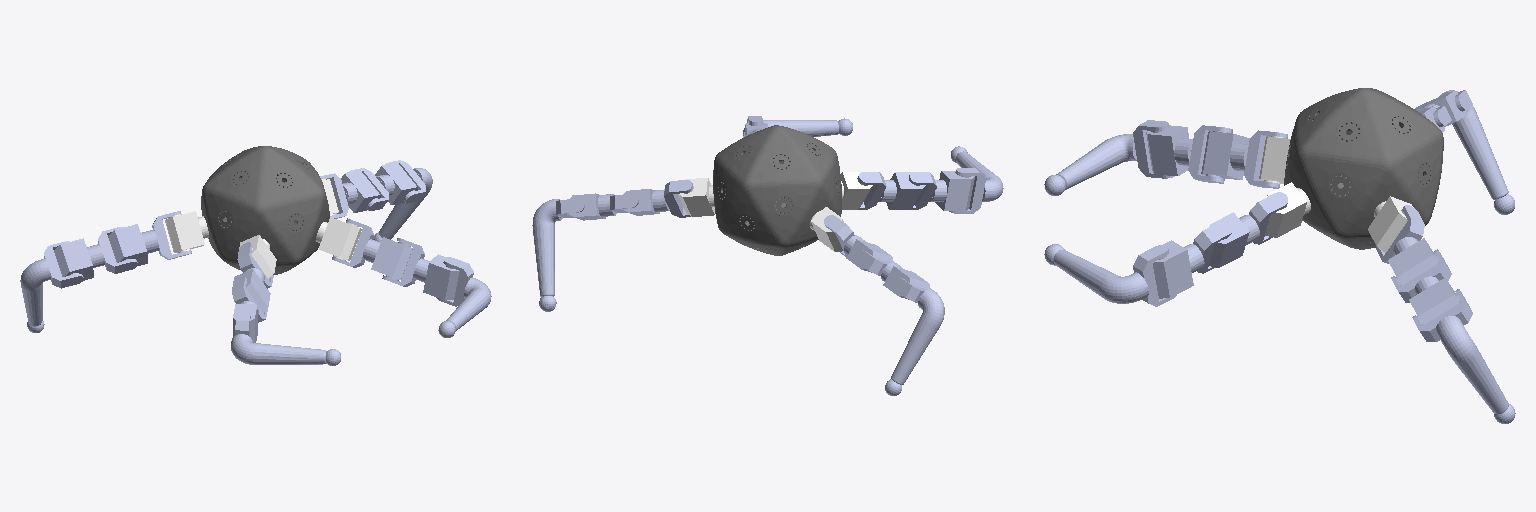
The robot description file, URDF, robot "mod_test":
<?xml version="1.0" encoding="utf-8"?>
<robot
  name="mod_test">
  <link
    name="base_link">
    <inertial>
      <origin
        xyz="-1.5226495220944E-06 1.5812928362389E-07 -5.05247252856584E-07"
        rpy="0 0 0" />
      <mass
        value="0.422806992949252" />
      <inertia
        ixx="0.00237499139253511"
        ixy="1.5717831530364E-08"
        ixz="1.49286265366169E-08"
        iyy="0.00237502154661776"
        iyz="-2.02154172619351E-08"
        izz="0.00237502595466009" />
    </inertial>
    <visual>
      <origin
        xyz="0 0 0"
        rpy="0 0 0" />
      <geometry>
        <mesh
          filename="package://meshes/base_link.STL" />
      </geometry>
      <material
        name="">
        <color
          rgba="0.498039215686275 0.498039215686275 0.498039215686275 1" />
      </material>
    </visual>
    <collision>
      <origin
        xyz="0 0 0"
        rpy="0 0 0" />
      <geometry>
        <mesh
          filename="package://meshes/base_link.STL" />
      </geometry>
    </collision>
  </link>
  <link
   name="100">
   <inertial>
      <origin
        xyz="0 0 0.028508"
        rpy="0 0 0" />
      <mass
        value="0.076173" />
      <inertia
        ixx="3.054E-05"
        ixy="0.000000"
        ixz="-0.000000"
        iyy="2.1077E-05"
        iyz="-0.000000"
        izz="2.1165E-05" />
    </inertial>
    <visual>
      <origin
        xyz="0 0 0"
        rpy="0 0 0" />
      <geometry>
        <mesh
          filename="package://meshes/1.STL" />
      </geometry>
      <material
        name="">
        <color
          rgba="1 1 1 1" />
      </material>
    </visual>
    <collision>
      <origin
        xyz="0 0 0"
        rpy="0 0 0" />
      <geometry>
        <mesh
          filename="package://meshes/1.STL" />
      </geometry>
    </collision>
  </link>
  <joint
    name="body_100"
    type="fixed">
    <origin
        xyz="0.051620 -0.071049 -0.016769"
        rpy="-1.787804 -0.513383 -2.405411" />
    <parent
      link="base_link" />
    <child
      link="100" />
    <axis
      xyz="0 0 0" />
  </joint>
  <link
    name="101">
    <inertial>
      <origin
        xyz="0.060018 -1.4108E-06 1.4108E-06"
        rpy="0 0 0" />
    <mass
        value="0.10689" />
      <inertia
        ixx="3.2684e-05"
        ixy="-2.5662e-09"
        ixz="2.5662e-09"
        iyy="9.3595e-05"
        iyz="-2.1275e-13"
        izz="7.512e-05" />
    </inertial>
    <visual>
      <origin
        xyz="0 0 0"
        rpy="0 0 0" />
      <geometry>
        <mesh
          filename="package://meshes/module0.STL" />
      </geometry>
      <material
        name="">
        <color
          rgba="0.79216 0.81961 0.93333 1" />
      </material>
    </visual>
    <collision>
      <origin
        xyz="0 0 0"
        rpy="0 0 0" />
      <geometry>
        <mesh
          filename="package://meshes/module0.STL" />
      </geometry>
    </collision>
  </link>
  <joint
    name="100_101"
    type="revolute">
    <origin
      xyz="0 0 0.04"
      rpy="-1.558 -1.5708 -0.012835" />
    <parent
      link="100" />
    <child
      link="101" />
    <axis
      xyz="0 0 1" />
    <limit
      lower="-6.28"
      upper="6.28"
      effort="10"
      velocity="100" />
  </joint>
  <link
    name="102">
    <inertial>
      <origin
        xyz="0.060018 -1.4108E-06 1.4108E-06"
        rpy="0 0 0" />
    <mass
        value="0.10689" />
      <inertia
        ixx="3.2684e-05"
        ixy="-2.5662e-09"
        ixz="2.5662e-09"
        iyy="9.1229e-05"
        iyz="4.0975e-06"
        izz="7.7485e-05" />
    </inertial>
    <visual>
      <origin
        xyz="0 0 0"
        rpy="0 0 0" />
      <geometry>
        <mesh
          filename="package://meshes/module7.STL" />
      </geometry>
      <material
        name="">
        <color
          rgba="0.79216 0.81961 0.93333 1" />
      </material>
    </visual>
    <collision>
      <origin
        xyz="0 0 0"
        rpy="0 0 0" />
      <geometry>
        <mesh
          filename="package://meshes/module7.STL" />
      </geometry>
    </collision>
  </link>
  <joint
    name="101_102"
    type="revolute">
    <origin
      xyz="0.0816 0 0"
      rpy="0.000000 0 0" />
    <parent
      link="101" />
    <child
      link="102" />
    <axis
      xyz="0 0 1" />
    <limit
      lower="-6.28"
      upper="6.28"
      effort="10"
      velocity="100" />
  </joint>
  <link
    name="103">
    <inertial>
      <origin
        xyz="0.051733 -0.042281 -1.3878E-17"
        rpy="0 0 0" />
    <mass
        value="0.12059" />
      <inertia
        ixx="0.00025425"
        ixy="4.8319E-05"
        ixz="0"
        iyy="5.0194E-05"
        iyz="-3.3141E-21"
        izz="0.00027482" />
    </inertial>
    <visual>
      <origin
        xyz="0 0 0"
        rpy="0 0 0" />
      <geometry>
        <mesh
          filename="package://meshes/leg.STL" />
      </geometry>
      <material
        name="">
        <color
          rgba="0.79216 0.81961 0.93333 1" />
      </material>
    </visual>
    <collision>
      <origin
        xyz="0 0 0"
        rpy="0 0 0" />
      <geometry>
        <mesh
          filename="package://meshes/leg.STL" />
      </geometry>
    </collision>
  </link>
  <joint
    name="102_103"
    type="revolute">
    <origin
      xyz="0.0816 0 0"
      rpy="3.665191 0 0" />
    <parent
      link="102" />
    <child
      link="103" />
    <axis
      xyz="0 0 1" />
    <limit
      lower="-6.28"
      upper="6.28"
      effort="10"
      velocity="100" />
  </joint>
  <link
   name="110">
   <inertial>
      <origin
        xyz="0 0 0.028508"
        rpy="0 0 0" />
      <mass
        value="0.076173" />
      <inertia
        ixx="3.054E-05"
        ixy="0.000000"
        ixz="-0.000000"
        iyy="2.1077E-05"
        iyz="-0.000000"
        izz="2.1165E-05" />
    </inertial>
    <visual>
      <origin
        xyz="0 0 0"
        rpy="0 0 0" />
      <geometry>
        <mesh
          filename="package://meshes/1.STL" />
      </geometry>
      <material
        name="">
        <color
          rgba="1 1 1 1" />
      </material>
    </visual>
    <collision>
      <origin
        xyz="0 0 0"
        rpy="0 0 0" />
      <geometry>
        <mesh
          filename="package://meshes/1.STL" />
      </geometry>
    </collision>
  </link>
  <joint
    name="body_110"
    type="fixed">
    <origin
        xyz="0.083523 0.027138 -0.016769"
        rpy="1.787804 0.513383 1.992819" />
    <parent
      link="base_link" />
    <child
      link="110" />
    <axis
      xyz="0 0 0" />
  </joint>
  <link
    name="111">
    <inertial>
      <origin
        xyz="0.060018 -1.4108E-06 1.4108E-06"
        rpy="0 0 0" />
    <mass
        value="0.10689" />
      <inertia
        ixx="3.2684e-05"
        ixy="-2.5662e-09"
        ixz="2.5662e-09"
        iyy="9.1229e-05"
        iyz="-4.0975e-06"
        izz="7.7485e-05" />
    </inertial>
    <visual>
      <origin
        xyz="0 0 0"
        rpy="0 0 0" />
      <geometry>
        <mesh
          filename="package://meshes/module11.STL" />
      </geometry>
      <material
        name="">
        <color
          rgba="0.79216 0.81961 0.93333 1" />
      </material>
    </visual>
    <collision>
      <origin
        xyz="0 0 0"
        rpy="0 0 0" />
      <geometry>
        <mesh
          filename="package://meshes/module11.STL" />
      </geometry>
    </collision>
  </link>
  <joint
    name="110_111"
    type="revolute">
    <origin
      xyz="0 0 0.04"
      rpy="-1.558 -1.5708 -0.012835" />
    <parent
      link="110" />
    <child
      link="111" />
    <axis
      xyz="0 0 1" />
    <limit
      lower="-6.28"
      upper="6.28"
      effort="10"
      velocity="100" />
  </joint>
  <link
    name="112">
    <inertial>
      <origin
        xyz="0.060018 -1.4108E-06 1.4108E-06"
        rpy="0 0 0" />
    <mass
        value="0.10689" />
      <inertia
        ixx="3.2684e-05"
        ixy="-2.5662e-09"
        ixz="2.5662e-09"
        iyy="9.3595e-05"
        iyz="-2.1275e-13"
        izz="7.512e-05" />
    </inertial>
    <visual>
      <origin
        xyz="0 0 0"
        rpy="0 0 0" />
      <geometry>
        <mesh
          filename="package://meshes/module6.STL" />
      </geometry>
      <material
        name="">
        <color
          rgba="0.79216 0.81961 0.93333 1" />
      </material>
    </visual>
    <collision>
      <origin
        xyz="0 0 0"
        rpy="0 0 0" />
      <geometry>
        <mesh
          filename="package://meshes/module6.STL" />
      </geometry>
    </collision>
  </link>
  <joint
    name="111_112"
    type="revolute">
    <origin
      xyz="0.0816 0 0"
      rpy="5.759587 0 0" />
    <parent
      link="111" />
    <child
      link="112" />
    <axis
      xyz="0 0 1" />
    <limit
      lower="-6.28"
      upper="6.28"
      effort="10"
      velocity="100" />
  </joint>
  <link
    name="113">
    <inertial>
      <origin
        xyz="0.051733 -0.042281 -1.3878E-17"
        rpy="0 0 0" />
    <mass
        value="0.12059" />
      <inertia
        ixx="0.00025425"
        ixy="4.8319E-05"
        ixz="0"
        iyy="5.0194E-05"
        iyz="-3.3141E-21"
        izz="0.00027482" />
    </inertial>
    <visual>
      <origin
        xyz="0 0 0"
        rpy="0 0 0" />
      <geometry>
        <mesh
          filename="package://meshes/leg.STL" />
      </geometry>
      <material
        name="">
        <color
          rgba="0.79216 0.81961 0.93333 1" />
      </material>
    </visual>
    <collision>
      <origin
        xyz="0 0 0"
        rpy="0 0 0" />
      <geometry>
        <mesh
          filename="package://meshes/leg.STL" />
      </geometry>
    </collision>
  </link>
  <joint
    name="112_113"
    type="revolute">
    <origin
      xyz="0.0816 0 0"
      rpy="3.141593 0 0" />
    <parent
      link="112" />
    <child
      link="113" />
    <axis
      xyz="0 0 1" />
    <limit
      lower="-6.28"
      upper="6.28"
      effort="10"
      velocity="100" />
  </joint>
  <link
   name="130">
   <inertial>
      <origin
        xyz="0 0 0.028508"
        rpy="0 0 0" />
      <mass
        value="0.076173" />
      <inertia
        ixx="3.054E-05"
        ixy="-0.000000"
        ixz="-0.000000"
        iyy="2.1077E-05"
        iyz="-0.000000"
        izz="2.1165E-05" />
    </inertial>
    <visual>
      <origin
        xyz="0 0 0"
        rpy="0 0 0" />
      <geometry>
        <mesh
          filename="package://meshes/1.STL" />
      </geometry>
      <material
        name="">
        <color
          rgba="1 1 1 1" />
      </material>
    </visual>
    <collision>
      <origin
        xyz="0 0 0"
        rpy="0 0 0" />
      <geometry>
        <mesh
          filename="package://meshes/1.STL" />
      </geometry>
    </collision>
  </link>
  <joint
    name="body_130"
    type="fixed">
    <origin
        xyz="-0.083523 0.027138 -0.016769"
        rpy="-1.787804 0.513383 1.148774" />
    <parent
      link="base_link" />
    <child
      link="130" />
    <axis
      xyz="0 0 0" />
  </joint>
  <link
    name="131">
    <inertial>
      <origin
        xyz="0.060018 -1.4108E-06 1.4108E-06"
        rpy="0 0 0" />
    <mass
        value="0.10689" />
      <inertia
        ixx="3.2684e-05"
        ixy="-2.5662e-09"
        ixz="2.5662e-09"
        iyy="9.1229e-05"
        iyz="4.0975e-06"
        izz="7.7485e-05" />
    </inertial>
    <visual>
      <origin
        xyz="0 0 0"
        rpy="0 0 0" />
      <geometry>
        <mesh
          filename="package://meshes/module1.STL" />
      </geometry>
      <material
        name="">
        <color
          rgba="0.79216 0.81961 0.93333 1" />
      </material>
    </visual>
    <collision>
      <origin
        xyz="0 0 0"
        rpy="0 0 0" />
      <geometry>
        <mesh
          filename="package://meshes/module1.STL" />
      </geometry>
    </collision>
  </link>
  <joint
    name="130_131"
    type="revolute">
    <origin
      xyz="0 0 0.04"
      rpy="-1.558 -1.5708 -0.012835" />
    <parent
      link="130" />
    <child
      link="131" />
    <axis
      xyz="0 0 1" />
    <limit
      lower="-6.28"
      upper="6.28"
      effort="10"
      velocity="100" />
  </joint>
  <link
    name="132">
    <inertial>
      <origin
        xyz="0.060018 -1.4108E-06 1.4108E-06"
        rpy="0 0 0" />
    <mass
        value="0.10689" />
      <inertia
        ixx="3.2684e-05"
        ixy="-2.5662e-09"
        ixz="2.5662e-09"
        iyy="9.3595e-05"
        iyz="-2.1275e-13"
        izz="7.512e-05" />
    </inertial>
    <visual>
      <origin
        xyz="0 0 0"
        rpy="0 0 0" />
      <geometry>
        <mesh
          filename="package://meshes/module6.STL" />
      </geometry>
      <material
        name="">
        <color
          rgba="0.79216 0.81961 0.93333 1" />
      </material>
    </visual>
    <collision>
      <origin
        xyz="0 0 0"
        rpy="0 0 0" />
      <geometry>
        <mesh
          filename="package://meshes/module6.STL" />
      </geometry>
    </collision>
  </link>
  <joint
    name="131_132"
    type="revolute">
    <origin
      xyz="0.0816 0 0"
      rpy="0.523599 0 0" />
    <parent
      link="131" />
    <child
      link="132" />
    <axis
      xyz="0 0 1" />
    <limit
      lower="-6.28"
      upper="6.28"
      effort="10"
      velocity="100" />
  </joint>
  <link
    name="133">
    <inertial>
      <origin
        xyz="0.051733 -0.042281 -1.3878E-17"
        rpy="0 0 0" />
    <mass
        value="0.12059" />
      <inertia
        ixx="0.00025425"
        ixy="4.8319E-05"
        ixz="0"
        iyy="5.0194E-05"
        iyz="-3.3141E-21"
        izz="0.00027482" />
    </inertial>
    <visual>
      <origin
        xyz="0 0 0"
        rpy="0 0 0" />
      <geometry>
        <mesh
          filename="package://meshes/leg.STL" />
      </geometry>
      <material
        name="">
        <color
          rgba="0.79216 0.81961 0.93333 1" />
      </material>
    </visual>
    <collision>
      <origin
        xyz="0 0 0"
        rpy="0 0 0" />
      <geometry>
        <mesh
          filename="package://meshes/leg.STL" />
      </geometry>
    </collision>
  </link>
  <joint
    name="132_133"
    type="revolute">
    <origin
      xyz="0.0816 0 0"
      rpy="3.141593 0 0" />
    <parent
      link="132" />
    <child
      link="133" />
    <axis
      xyz="0 0 1" />
    <limit
      lower="-6.28"
      upper="6.28"
      effort="10"
      velocity="100" />
  </joint>
  <link
   name="140">
   <inertial>
      <origin
        xyz="0 0 0.028508"
        rpy="0 0 0" />
      <mass
        value="0.076173" />
      <inertia
        ixx="3.054E-05"
        ixy="0.000000"
        ixz="-0.000000"
        iyy="2.1077E-05"
        iyz="0.000021"
        izz="2.1165E-05" />
    </inertial>
    <visual>
      <origin
        xyz="0 0 0"
        rpy="0 0 0" />
      <geometry>
        <mesh
          filename="package://meshes/1.STL" />
      </geometry>
      <material
        name="">
        <color
          rgba="1 1 1 1" />
      </material>
    </visual>
    <collision>
      <origin
        xyz="0 0 0"
        rpy="0 0 0" />
      <geometry>
        <mesh
          filename="package://meshes/1.STL" />
      </geometry>
    </collision>
  </link>
  <joint
    name="body_140"
    type="fixed">
    <origin
        xyz="-0.051620 -0.071049 -0.016769"
        rpy="1.787804 -0.513383 -0.736182" />
    <parent
      link="base_link" />
    <child
      link="140" />
    <axis
      xyz="0 0 0" />
  </joint>
  <link
    name="141">
    <inertial>
      <origin
        xyz="0.060018 -1.4108E-06 1.4108E-06"
        rpy="0 0 0" />
    <mass
        value="0.10689" />
      <inertia
        ixx="3.2684e-05"
        ixy="-2.5662e-09"
        ixz="2.5662e-09"
        iyy="9.3595e-05"
        iyz="-2.1275e-13"
        izz="7.512e-05" />
    </inertial>
    <visual>
      <origin
        xyz="0 0 0"
        rpy="0 0 0" />
      <geometry>
        <mesh
          filename="package://meshes/module0.STL" />
      </geometry>
      <material
        name="">
        <color
          rgba="0.79216 0.81961 0.93333 1" />
      </material>
    </visual>
    <collision>
      <origin
        xyz="0 0 0"
        rpy="0 0 0" />
      <geometry>
        <mesh
          filename="package://meshes/module0.STL" />
      </geometry>
    </collision>
  </link>
  <joint
    name="140_141"
    type="revolute">
    <origin
      xyz="0 0 0.04"
      rpy="-1.558 -1.5708 -0.012835" />
    <parent
      link="140" />
    <child
      link="141" />
    <axis
      xyz="0 0 1" />
    <limit
      lower="-6.28"
      upper="6.28"
      effort="10"
      velocity="100" />
  </joint>
  <link
    name="142">
    <inertial>
      <origin
        xyz="0.060018 -1.4108E-06 1.4108E-06"
        rpy="0 0 0" />
    <mass
        value="0.10689" />
      <inertia
        ixx="3.2684e-05"
        ixy="-2.5662e-09"
        ixz="2.5662e-09"
        iyy="9.1229e-05"
        iyz="-4.0975e-06"
        izz="7.7485e-05" />
    </inertial>
    <visual>
      <origin
        xyz="0 0 0"
        rpy="0 0 0" />
      <geometry>
        <mesh
          filename="package://meshes/module5.STL" />
      </geometry>
      <material
        name="">
        <color
          rgba="0.79216 0.81961 0.93333 1" />
      </material>
    </visual>
    <collision>
      <origin
        xyz="0 0 0"
        rpy="0 0 0" />
      <geometry>
        <mesh
          filename="package://meshes/module5.STL" />
      </geometry>
    </collision>
  </link>
  <joint
    name="141_142"
    type="revolute">
    <origin
      xyz="0.0816 0 0"
      rpy="0.000000 0 0" />
    <parent
      link="141" />
    <child
      link="142" />
    <axis
      xyz="0 0 1" />
    <limit
      lower="-6.28"
      upper="6.28"
      effort="10"
      velocity="100" />
  </joint>
  <link
    name="143">
    <inertial>
      <origin
        xyz="0.051733 -0.042281 -1.3878E-17"
        rpy="0 0 0" />
    <mass
        value="0.12059" />
      <inertia
        ixx="0.00025425"
        ixy="4.8319E-05"
        ixz="0"
        iyy="5.0194E-05"
        iyz="-3.3141E-21"
        izz="0.00027482" />
    </inertial>
    <visual>
      <origin
        xyz="0 0 0"
        rpy="0 0 0" />
      <geometry>
        <mesh
          filename="package://meshes/leg.STL" />
      </geometry>
      <material
        name="">
        <color
          rgba="0.79216 0.81961 0.93333 1" />
      </material>
    </visual>
    <collision>
      <origin
        xyz="0 0 0"
        rpy="0 0 0" />
      <geometry>
        <mesh
          filename="package://meshes/leg.STL" />
      </geometry>
    </collision>
  </link>
  <joint
    name="142_143"
    type="revolute">
    <origin
      xyz="0.0816 0 0"
      rpy="2.617994 0 0" />
    <parent
      link="142" />
    <child
      link="143" />
    <axis
      xyz="0 0 1" />
    <limit
      lower="-6.28"
      upper="6.28"
      effort="10"
      velocity="100" />
  </joint>
  <link
    name = "ball_1">
    <inertial>
    <origin
        xyz="0 0 0"
        rpy="0 0 0" />
    <mass
        value="0" />
      <inertia
        ixx="0"
        ixy="0"
        ixz="0"
        iyy="0"
        iyz="0"
        izz="0" />
    </inertial>    <visual>
      <origin
        xyz="0 0 0"
        rpy="0 0 0" />
     <geometry>
        <sphere radius = "0.01"/>
      </geometry>
      <material
        name="green">
        <color
          rgba="0.22 1 0.4 1" />
      </material>
    </visual>
  </link>
  <joint
  name="103_ball1"
  type="fixed">
    <origin
      xyz="0.0612 -0.13431 0"
      rpy="0 0 0" />
    <parent
      link="103" />
    <child
      link="ball_1" />
    <axis
      xyz="0 0 0" />
  </joint>
  <link
    name = "ball_2">
    <inertial>
    <origin
        xyz="0 0 0"
        rpy="0 0 0" />
    <mass
        value="0" />
      <inertia
        ixx="0"
        ixy="0"
        ixz="0"
        iyy="0"
        iyz="0"
        izz="0" />
    </inertial>    <visual>
      <origin
        xyz="0 0 0"
        rpy="0 0 0" />
      <geometry>
        <sphere radius = "0.01"/>
      </geometry>
      <material
        name="blue">
        <color
          rgba="0.16 0.52 0.8 1" />
      </material>
    </visual>
  </link>
  <joint
  name="113_ball2"
  type="fixed">
    <origin
      xyz="0.0612 -0.13431 0"
      rpy="0 0 0" />
    <parent
      link="113" />
    <child
      link="ball_2" />
    <axis
      xyz="0 0 0" />
  </joint>
  <link
    name = "ball_3">
    <inertial>
    <origin
        xyz="0 0 0"
        rpy="0 0 0" />
    <mass
        value="0" />
      <inertia
        ixx="0"
        ixy="0"
        ixz="0"
        iyy="0"
        iyz="0"
        izz="0" />
    </inertial>    <visual>
      <origin
        xyz="0 0 0"
        rpy="0 0 0" />
     <geometry>
        <sphere radius = "0.01"/>
      </geometry>
      <material
        name="blue">
        <color
          rgba="0.16 0.52 0.8 1" />
      </material>
    </visual>
  </link>
  <joint
  name="133_ball3"
  type="fixed">
    <origin
      xyz="0.0612 -0.13431 0"
      rpy="0 0 0" />
    <parent
      link="133" />
    <child
      link="ball_3" />
    <axis
      xyz="0 0 0" />
  </joint>
  <link
    name = "ball_4">
    <inertial>
    <origin
        xyz="0 0 0"
        rpy="0 0 0" />
    <mass
        value="0" />
      <inertia
        ixx="0"
        ixy="0"
        ixz="0"
        iyy="0"
        iyz="0"
        izz="0" />
    </inertial>    <visual>
      <origin
        xyz="0 0 0"
        rpy="0 0 0" />
      <geometry>
        <sphere radius = "0.01"/>
      </geometry>
      <material
        name="yellow">
        <color
          rgba="1 1 0 1" />
      </material>
    </visual>
  </link>
  <joint
  name="143_ball4"
  type="fixed">
    <origin
      xyz="0.0612 -0.13431 0"
      rpy="0 0 0" />
    <parent
      link="143" />
    <child
      link="ball_4" />
    <axis
      xyz="0 0 0" />
  </joint>
</robot>

--- Facts derived from the render (not from the file) ---
The picture shows the robot from 3 angles, left to right: view 1: azimuth 30°, elevation 25°; view 2: azimuth 150°, elevation 25°; view 3: azimuth 270°, elevation 25°; orthographic projection.
Model mod_test with 21 links and 20 joints (12 revolute, 8 fixed), rooted at base_link, posed all joints at 0.
Visible links, largest first — view 1: base_link, 143, 132, 133, 103, 101, 131, 102, 111, 112, 113, 100 (+4 smaller); view 2: base_link, 133, 113, 142, 141, 143, 111, 112, 103, 131, 132, 110 (+2 smaller); view 3: base_link, 113, 103, 143, 141, 102, 142, 133, 101, 111, 112, 100 (+3 smaller).
Boxes of the visible links, x1,y1,x2,y2 form: base_link: (201, 146, 329, 274); 143: (231, 307, 340, 365); 132: (54, 227, 137, 280); 133: (20, 241, 83, 332); 103: (436, 257, 491, 337); 101: (332, 218, 412, 280); 131: (108, 211, 191, 265); 102: (382, 238, 459, 300); 111: (320, 170, 380, 218); 112: (347, 162, 417, 210); 113: (373, 160, 432, 242); 100: (316, 217, 361, 260); base_link: (713, 125, 841, 255); 133: (885, 277, 944, 395); 113: (532, 199, 584, 311); 142: (909, 171, 974, 210); 141: (858, 172, 925, 209); 143: (949, 146, 1003, 213); 111: (623, 180, 692, 217); 112: (569, 193, 638, 220); 103: (743, 116, 852, 137); 131: (824, 215, 892, 272); 132: (855, 250, 929, 299); 110: (678, 178, 714, 216); base_link: (1284, 88, 1443, 249); 113: (1412, 289, 1515, 423); 103: (1044, 244, 1176, 306); 143: (1044, 120, 1174, 195); 141: (1201, 130, 1287, 188); 102: (1153, 221, 1232, 298); 142: (1146, 125, 1232, 183); 133: (1439, 90, 1514, 214); 101: (1209, 192, 1287, 267); 111: (1376, 205, 1439, 285); 112: (1391, 249, 1460, 325); 100: (1265, 182, 1310, 237).
Bounding box of the posed robot: 0.6825 × 0.5498 × 0.2956 m (x, y, z).
Meshes: 9 distinct files referenced, 17 mesh visuals loaded (9 binary STL).